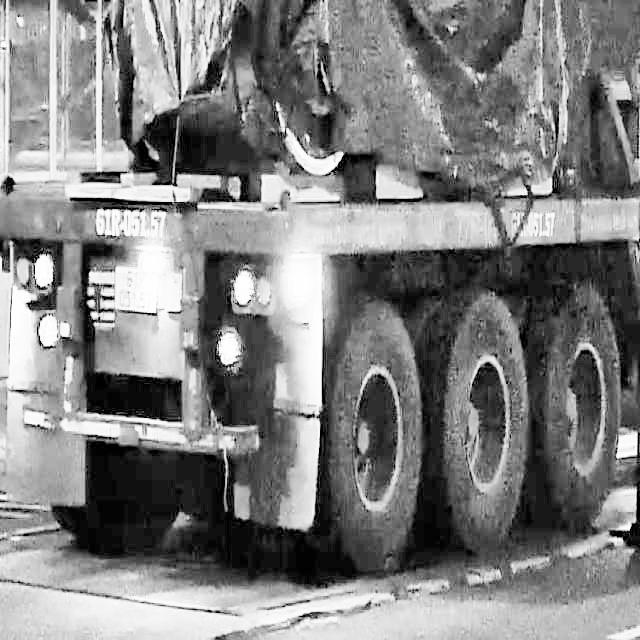Truck: (0, 1, 638, 575)
